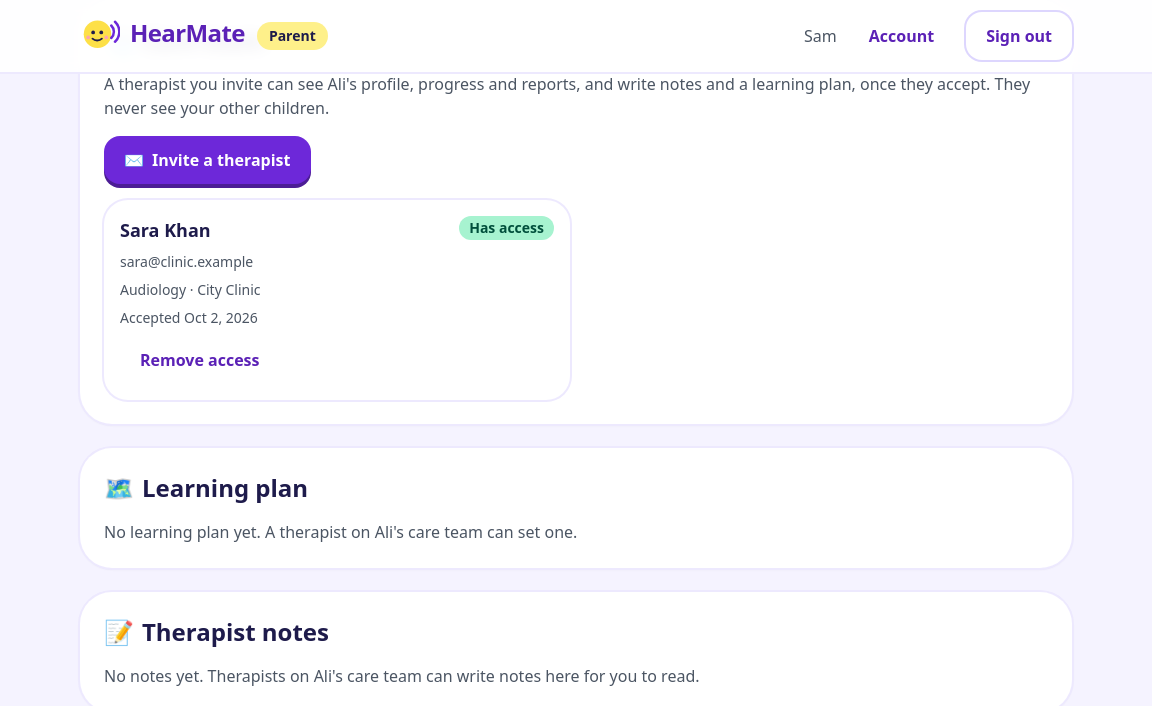
it: Care team (parent) › removes a therapist's access only after confirming
The width and height of the screenshot is (1152, 706).
(page scrolled)
Check: the text "Has access" is shown, box [459, 216, 554, 240]
Click the button with aria-label "Remove Sara Khan's access" at x=200, y=360, box [120, 336, 280, 384]
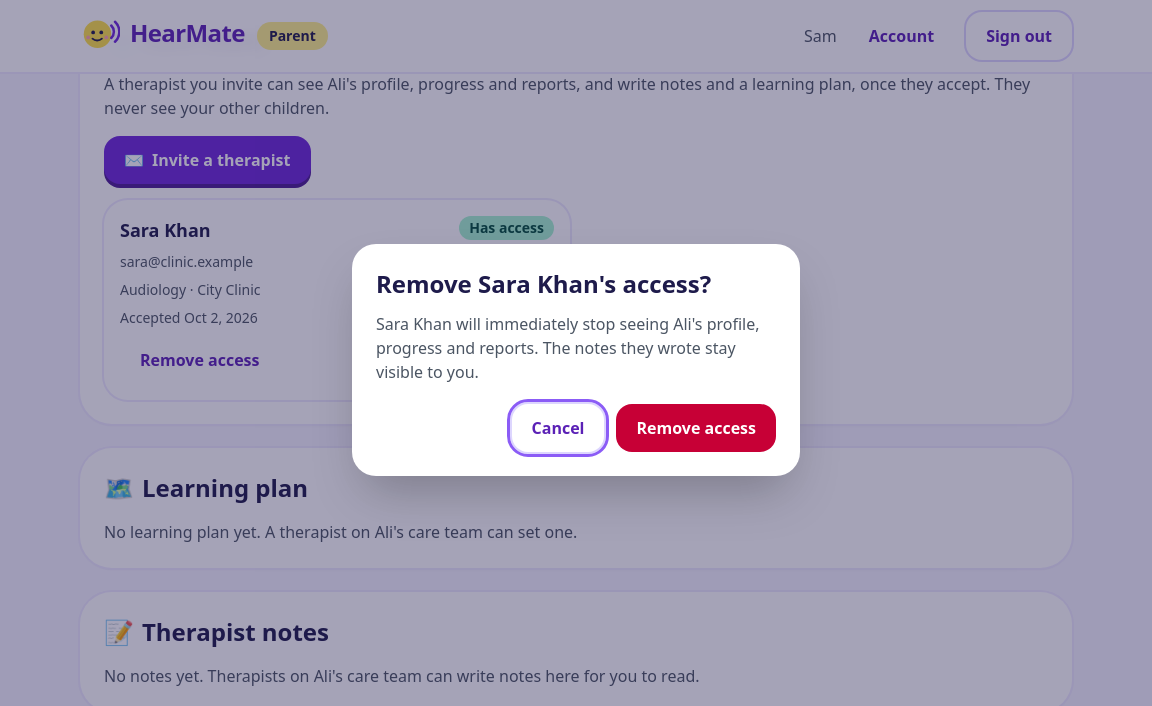
Press Escape
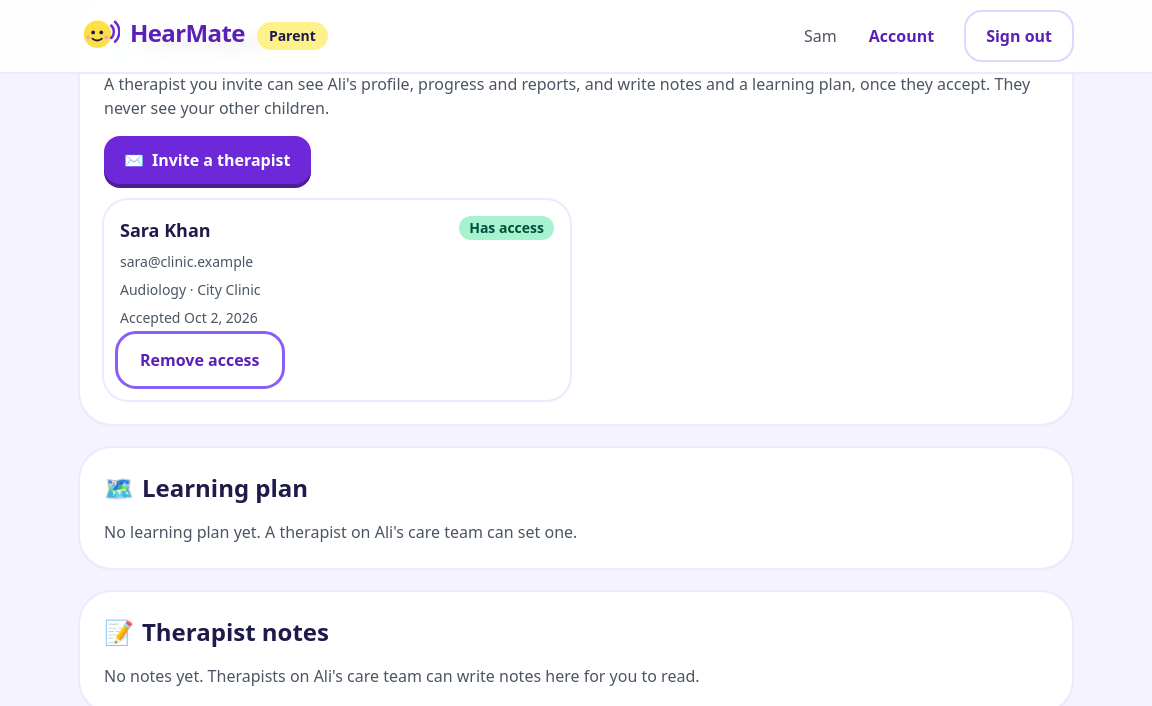
Click the button with aria-label "Remove Sara Khan's access" at x=200, y=360, box [120, 336, 280, 384]
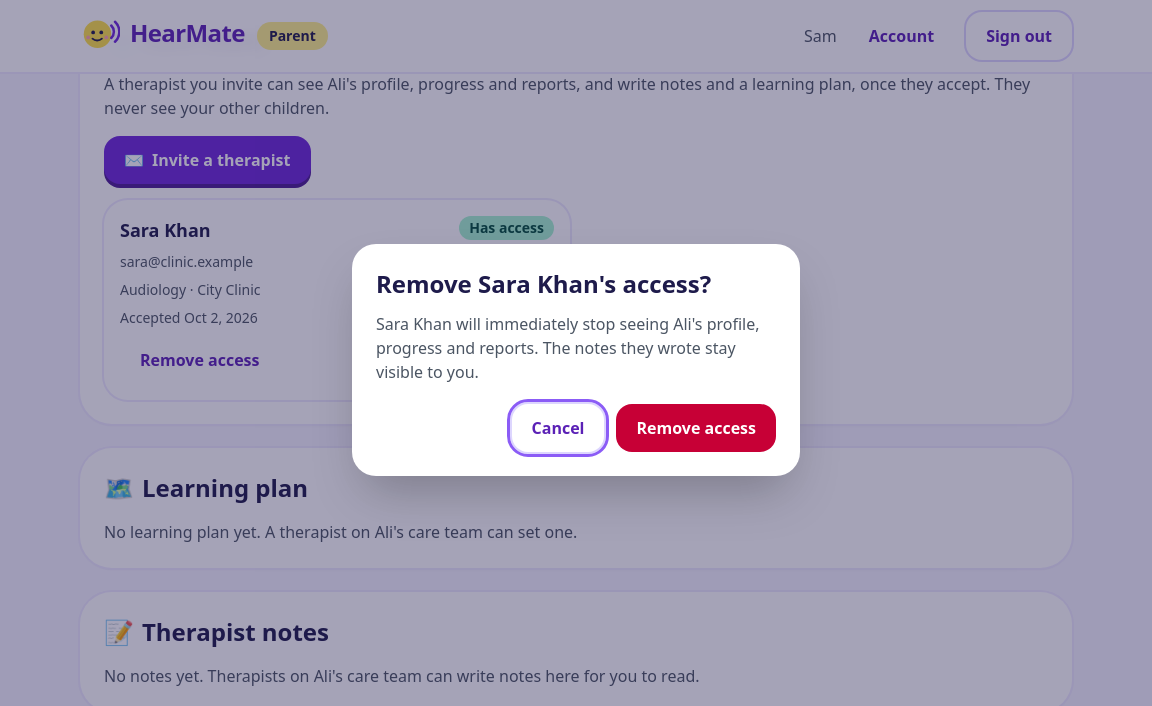
Check: the dialog "Remove Sara Khan's access?" shows "The notes they wrote stay visible to you.", box [376, 313, 760, 383]
Click the button "Remove access" below "Remove Sara Khan's access?" at x=696, y=428, box [616, 404, 776, 452]
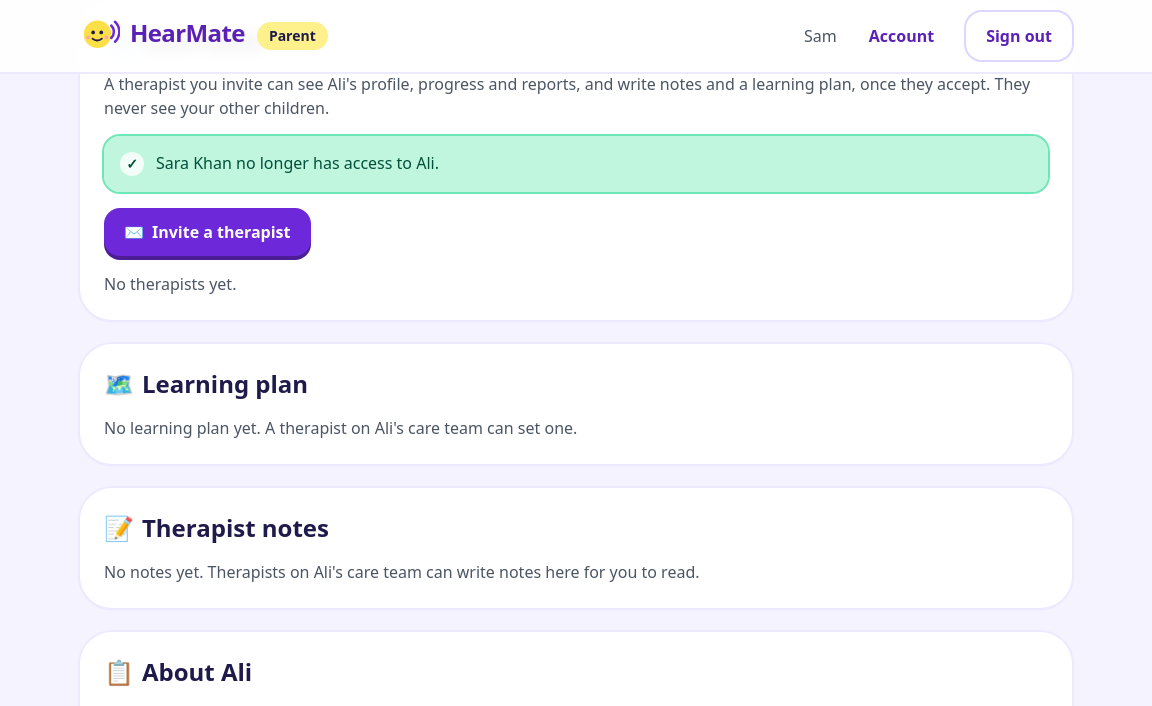
Check: the text "Sara Khan no longer has access to Ali." is shown, box [156, 152, 439, 174]
Check: the text "No therapists yet." is shown, box [104, 273, 236, 295]
